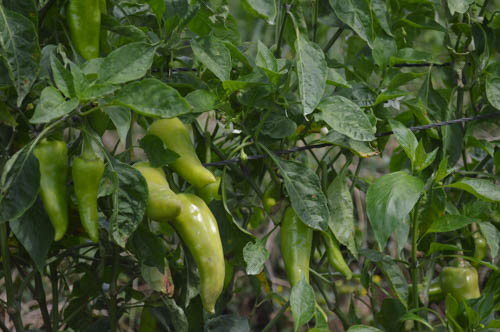ChiliPepper: (172, 191, 222, 315), (149, 120, 213, 182), (35, 141, 69, 242), (274, 210, 312, 288), (70, 156, 104, 241), (130, 161, 178, 219), (66, 7, 102, 56)
